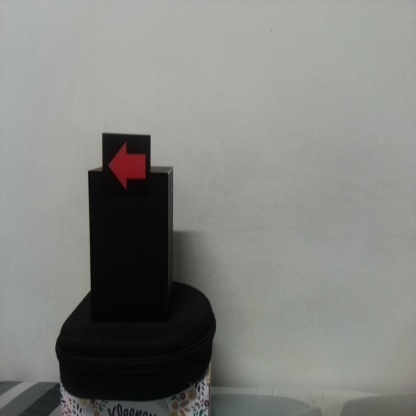id_4: (102, 134, 151, 200)
